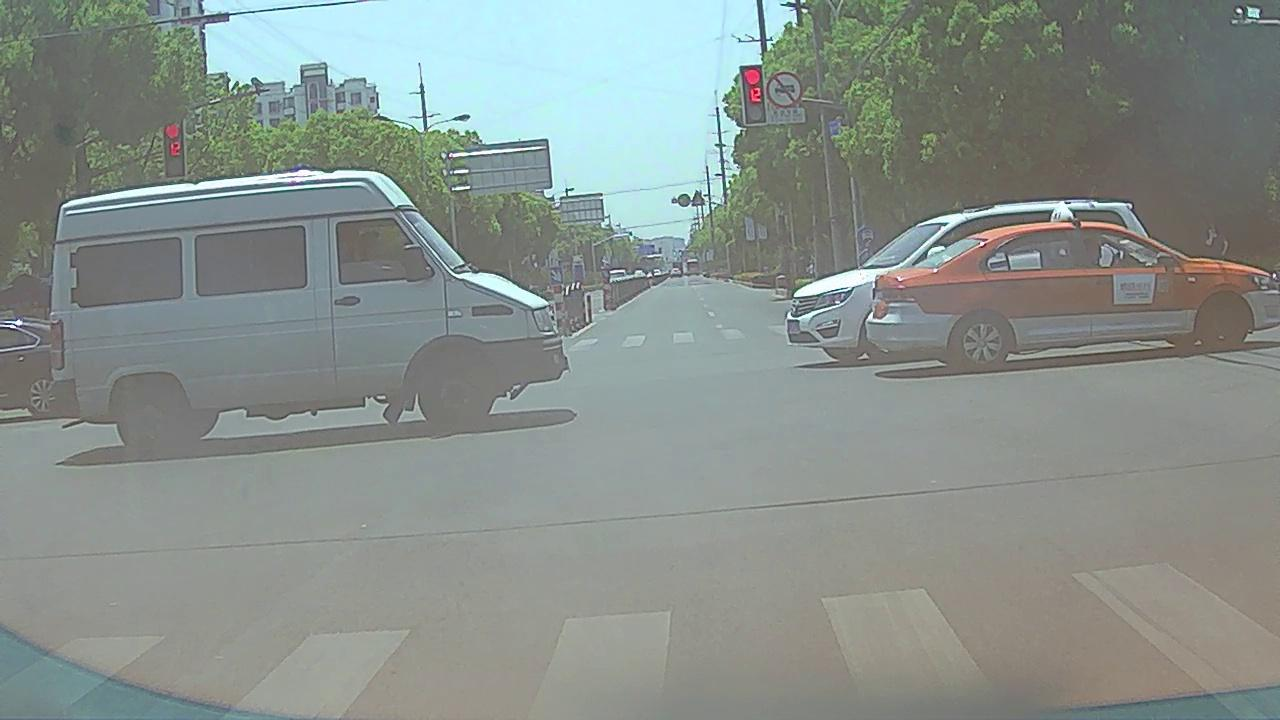traffic_light: (740, 64, 769, 124), (162, 120, 188, 174)
